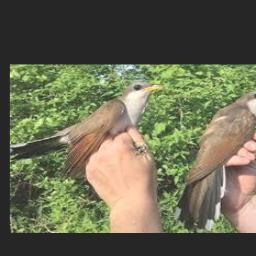Cuckoo: (10, 82, 163, 181), (177, 90, 256, 231)
